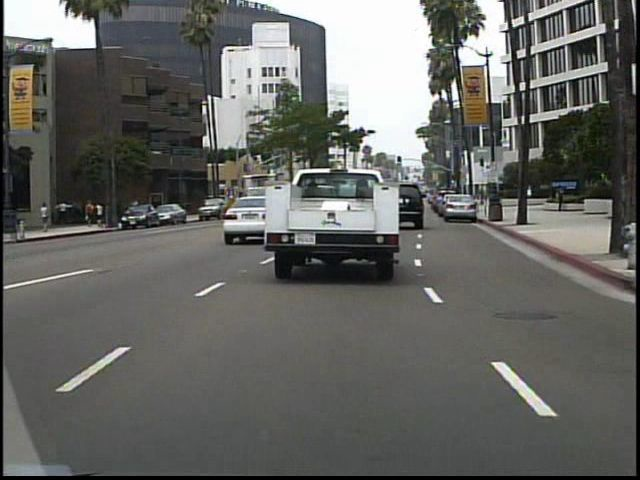person: (42, 199, 55, 236), (554, 183, 567, 214)
